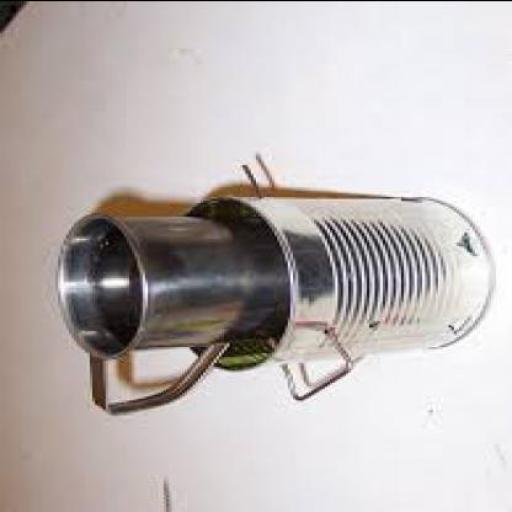metal: (176, 192, 486, 398), (56, 207, 287, 412)
